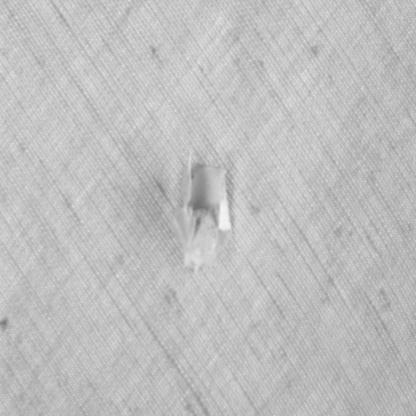objects: (172, 150, 235, 270)
